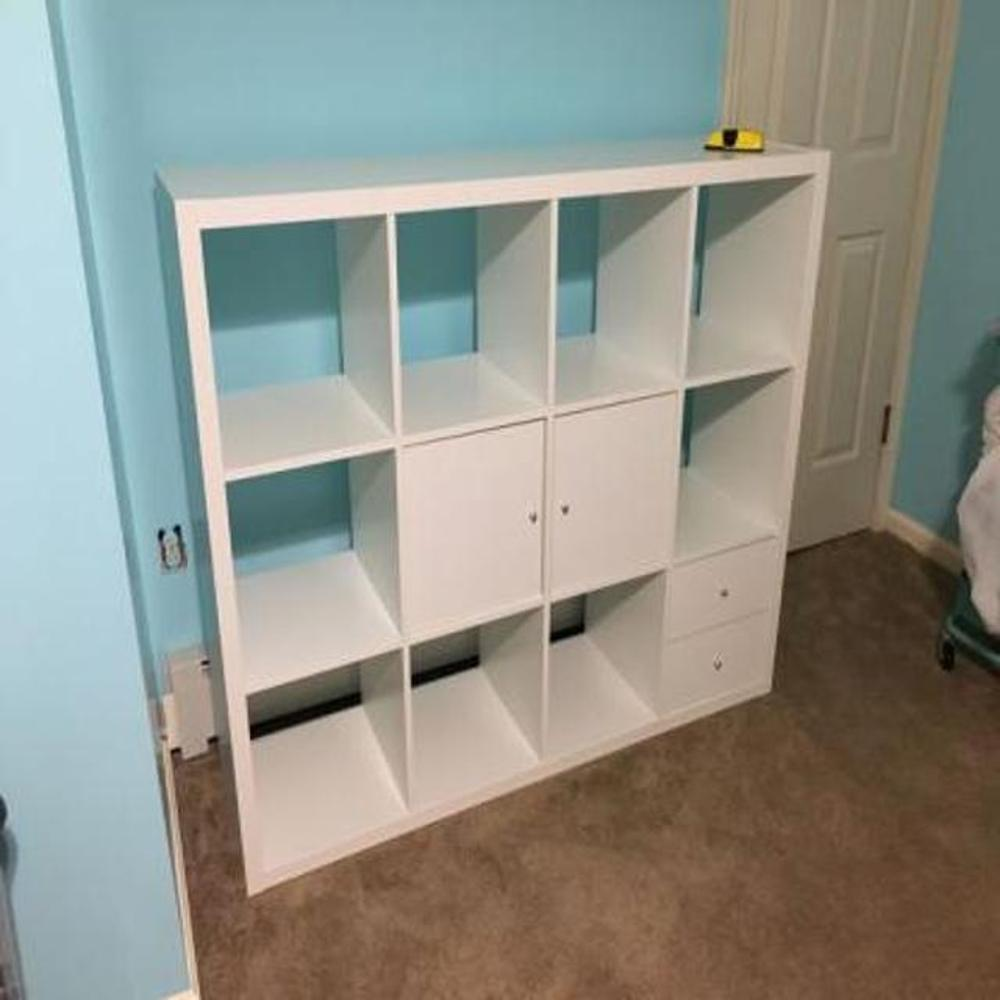lamp: (147, 128, 834, 906)
